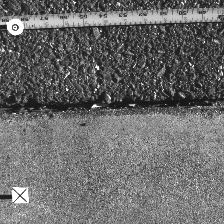circle: (6, 19, 24, 35)
crack: (1, 96, 223, 116)
square: (11, 186, 29, 204)
